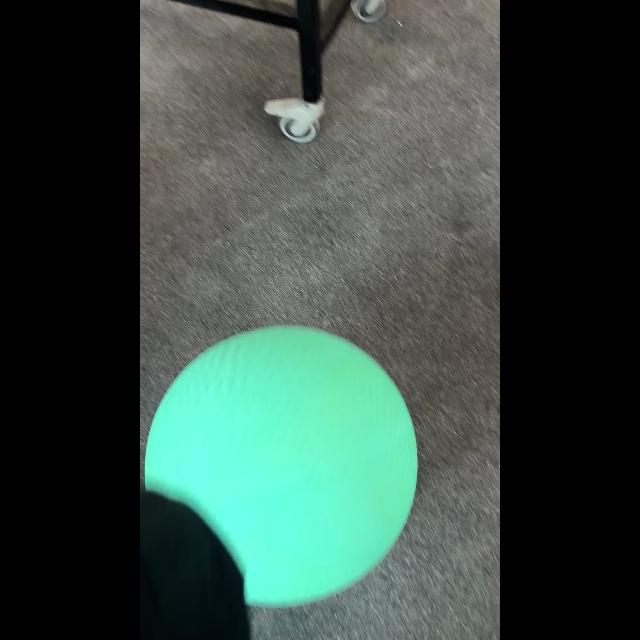ALGAE: (144, 324, 418, 608)
